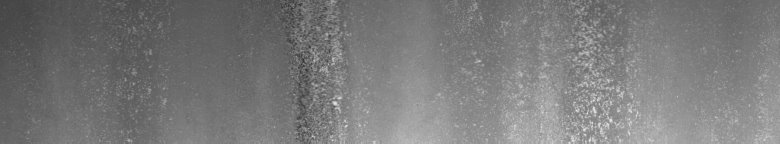hc: (293, 4, 341, 110)
